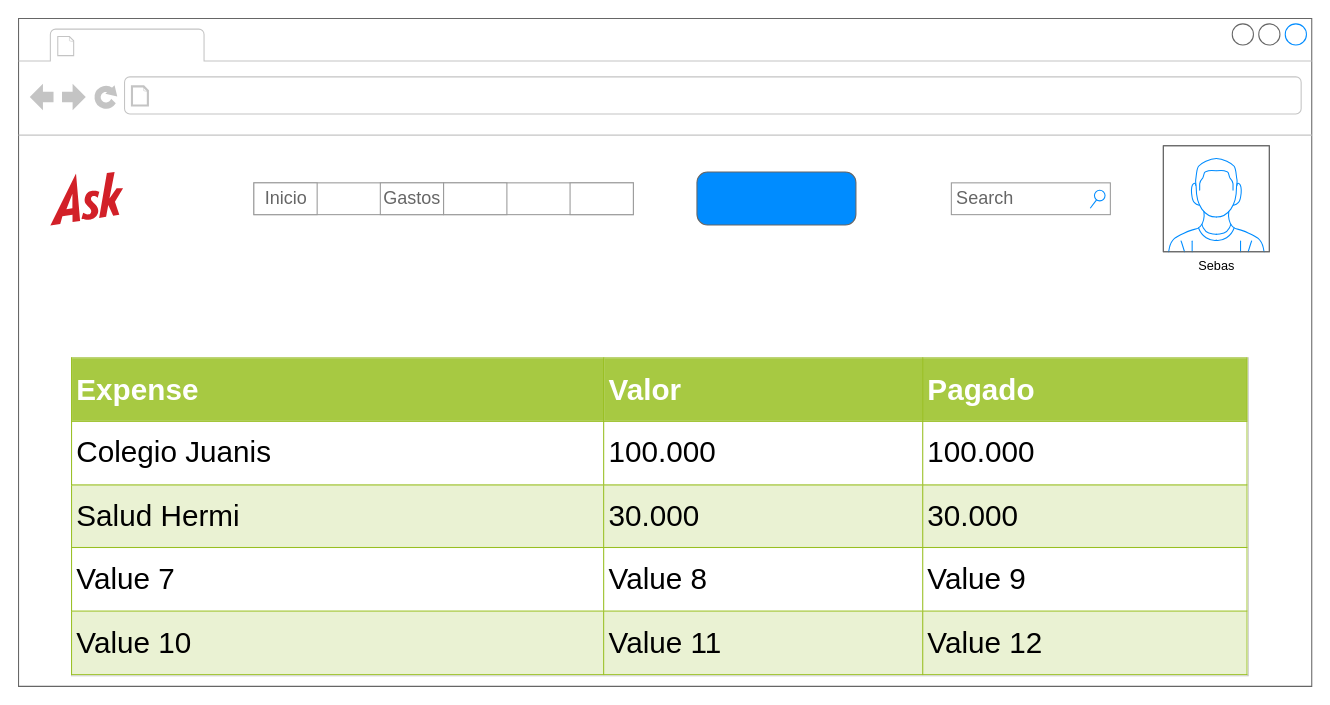
The diagram is 1330 pixels wide and 705 high, and some of its shapes have lost their labels. The shapes that lost their labels are listed below. From the top down, each one's centre as x and y in pixels, then its label:
point (140, 44): Page 1
point (288, 95): https://www.draw.io
point (776, 198): Añadir Gasto
